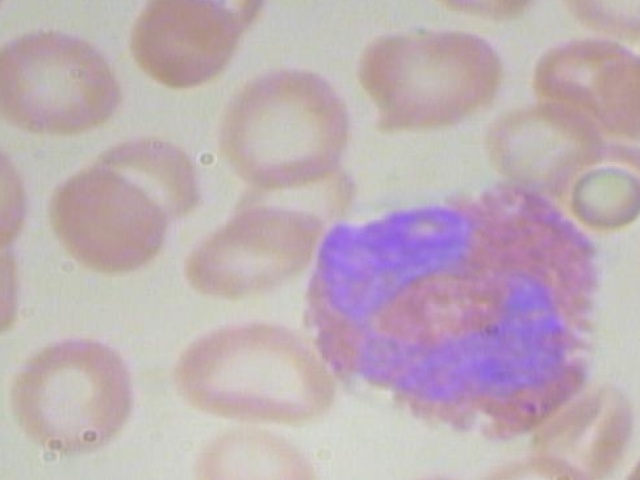RBC: (163, 315, 353, 425), (200, 64, 358, 196), (0, 333, 145, 464), (352, 20, 509, 139), (41, 162, 178, 277), (0, 27, 133, 145), (180, 202, 332, 301), (125, 0, 244, 91), (90, 130, 203, 224), (590, 54, 640, 160), (569, 165, 640, 236), (0, 127, 39, 256), (636, 186, 640, 295)
WBC: (276, 181, 614, 447)
